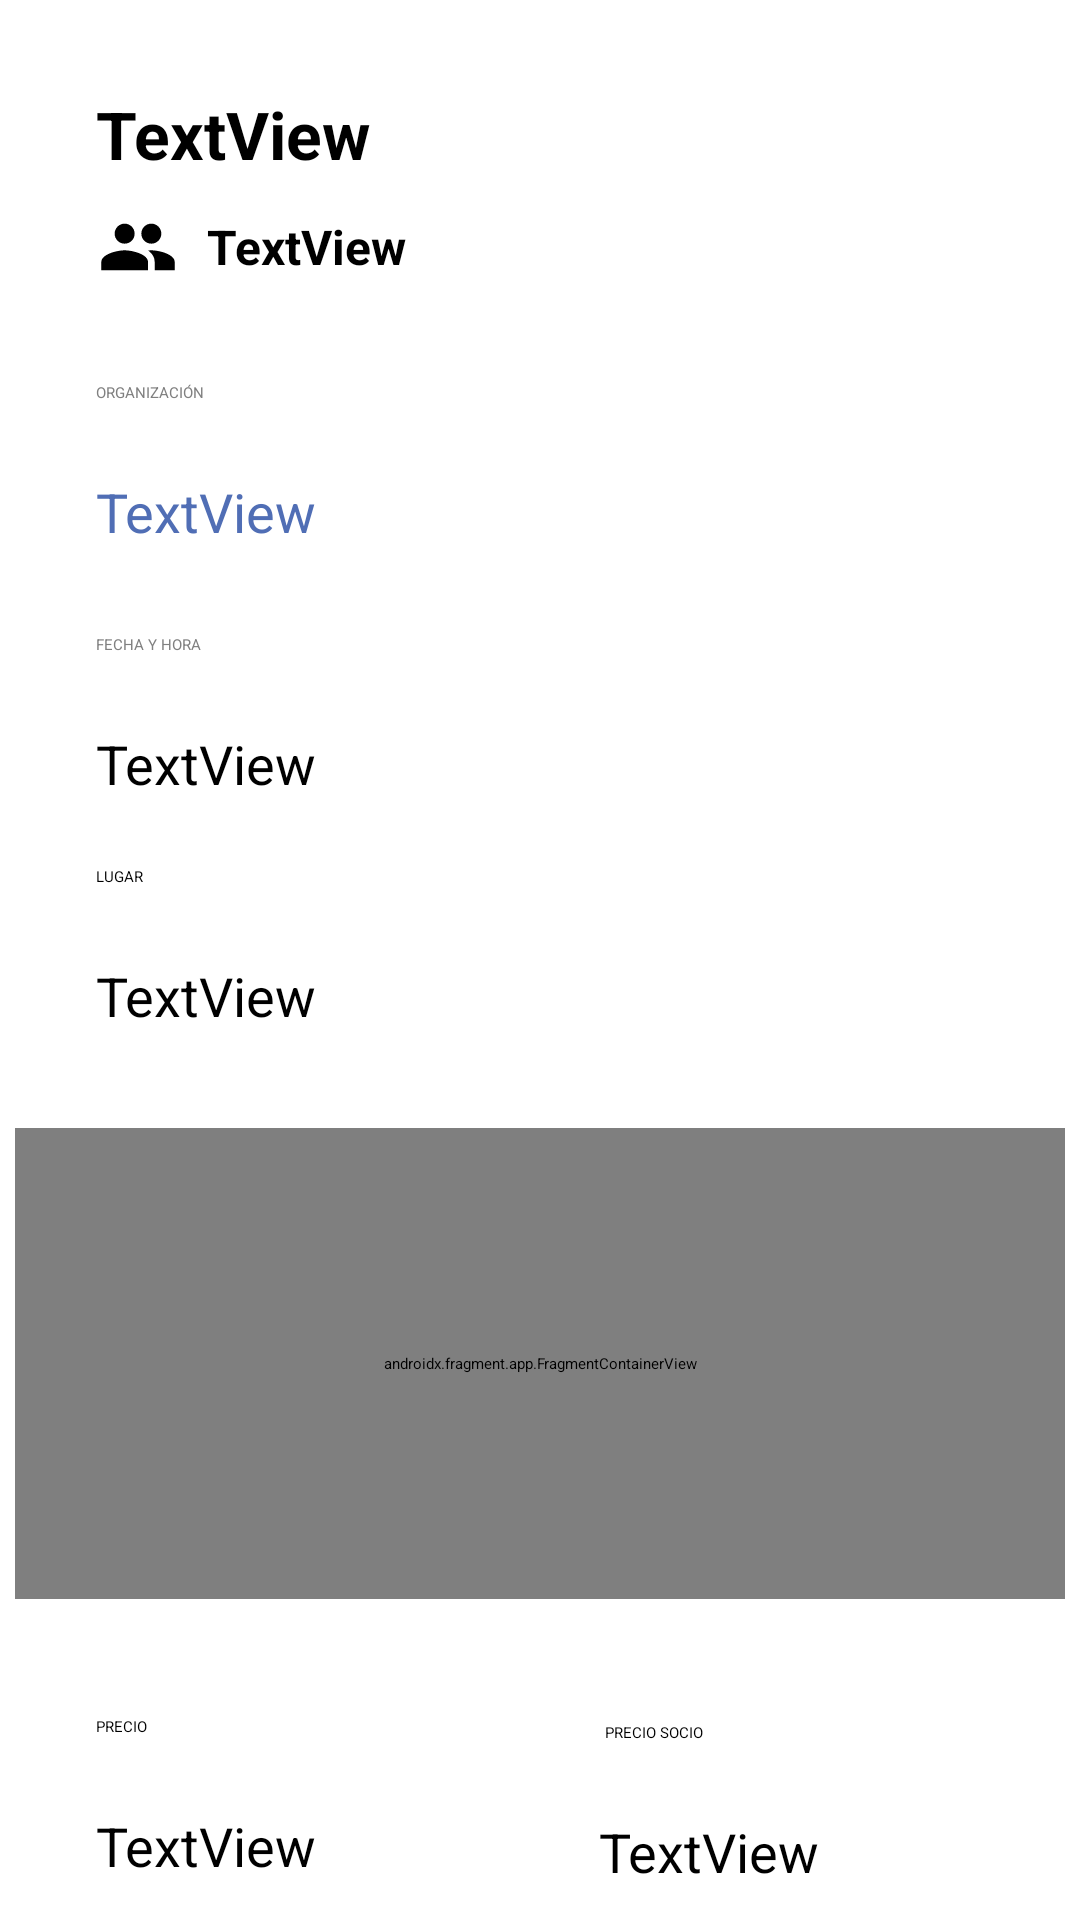

Icon click points for this 1080x1920 phone screenshot, format (x=x, y=y):
people: (x=138, y=247)
